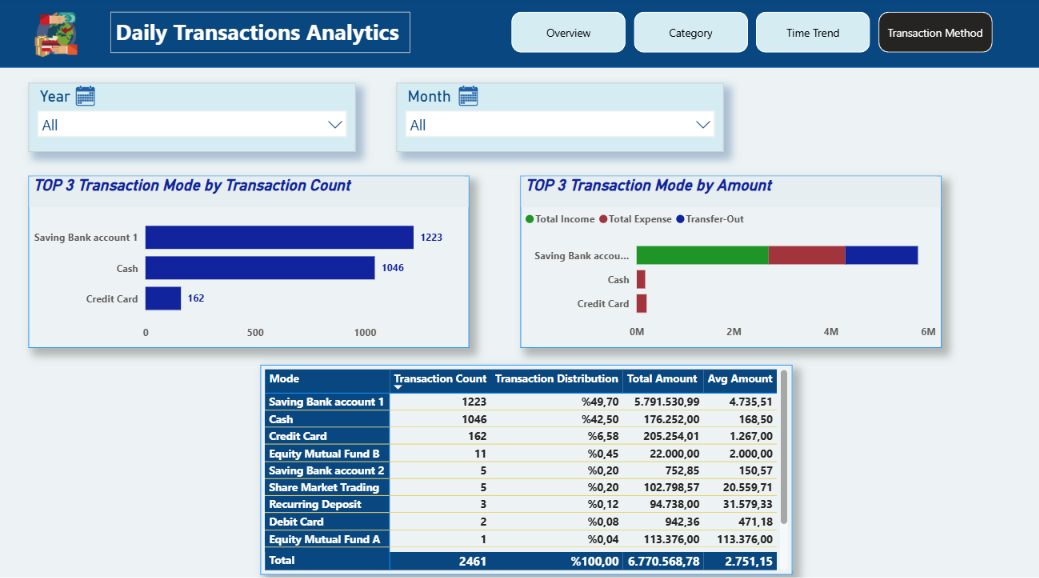

This screenshot's page, from the dashboard's own definition file:
{"tool":"powerbi","page":{"name":"Transaction Method","canvas":[1280,720],"ordinal":3},"visuals":[{"type":"shape","box":[0,1.2,1280,85.8],"z":0},{"type":"textbox","box":[137.4,18.4,368.1,50.3],"z":1000},{"type":"pageNavigator","box":[629.5,18.4,590.2,50.3],"z":2000},{"type":"image","box":[36.8,18.4,68.4,56],"z":3000},{"type":"slicer","fields":{"Values":["Calendar.Date.Variation.Date Hierarchy.Year"]},"box":[36.8,105.5,401.5,84.7],"z":4000},{"type":"slicer","fields":{"Values":["Calendar.Date.Variation.Date Hierarchy.Month"]},"box":[488.3,105.5,401.5,84.7],"z":5000},{"type":"image","box":[88.3,95.7,38,52.8],"z":6000},{"type":"image","box":[558.3,95.7,38,52.8],"z":7000},{"type":"barChart","title":"TOP 3 Transaction Mode by Transaction Count","fields":{"Category":["Daily_Transactions.Mode"],"Y":["_Measures.Transaction Count"]},"box":[37,219.6,540.7,211.3],"z":8000},{"type":"barChart","title":"TOP 3 Transaction Mode by Amount","fields":{"Category":["Daily_Transactions.Mode"],"Y":["_Measures.Total Income","_Measures.Total Expense","_Measures.Transfer-Out"]},"box":[640.5,219.6,516.6,211],"z":9000},{"type":"pivotTable","fields":{"Rows":["Daily_Transactions.Mode"],"Values":["_Measures.Transaction Count","_Measures.% Volume Share","_Measures.Total Amount","_Measures.Avg Ticket Size"]},"box":[321.1,451.5,653.2,258],"z":10000}]}

Visuals, with their boxes in screenshot pixels (x1, y1, x2, y2), scaled from the page's 1280x720 canvas onto the 1039x578 screenshot:
shape: (left=0, top=1, right=1038, bottom=70)
textbox: (left=112, top=15, right=410, bottom=55)
pageNavigator: (left=511, top=15, right=990, bottom=55)
image: (left=30, top=15, right=85, bottom=60)
slicer - Calendar.Date.Variation.Date Hierarchy.Year: (left=30, top=85, right=356, bottom=153)
slicer - Calendar.Date.Variation.Date Hierarchy.Month: (left=396, top=85, right=722, bottom=153)
image: (left=72, top=77, right=103, bottom=119)
image: (left=453, top=77, right=484, bottom=119)
"TOP 3 Transaction Mode by Transaction Count" barChart: (left=30, top=176, right=469, bottom=346)
"TOP 3 Transaction Mode by Amount" barChart: (left=520, top=176, right=939, bottom=346)
pivotTable - Daily_Transactions.Mode x _Measures.Transaction Count: (left=261, top=362, right=791, bottom=570)
